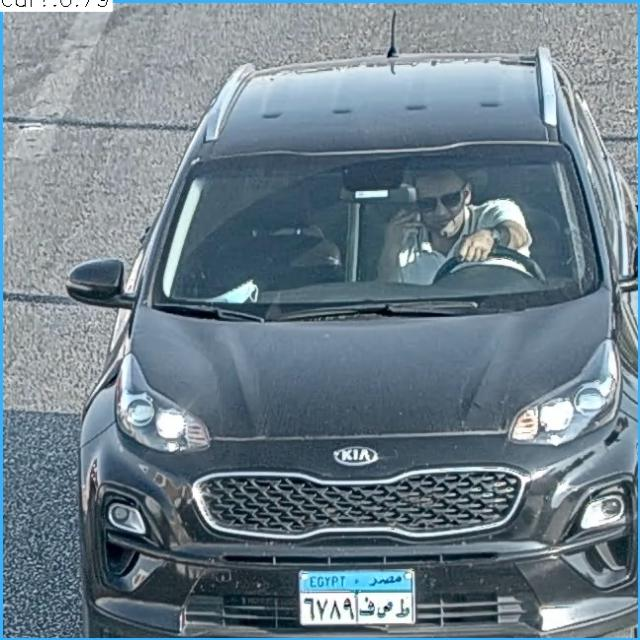windshield: (158, 151, 598, 306)
